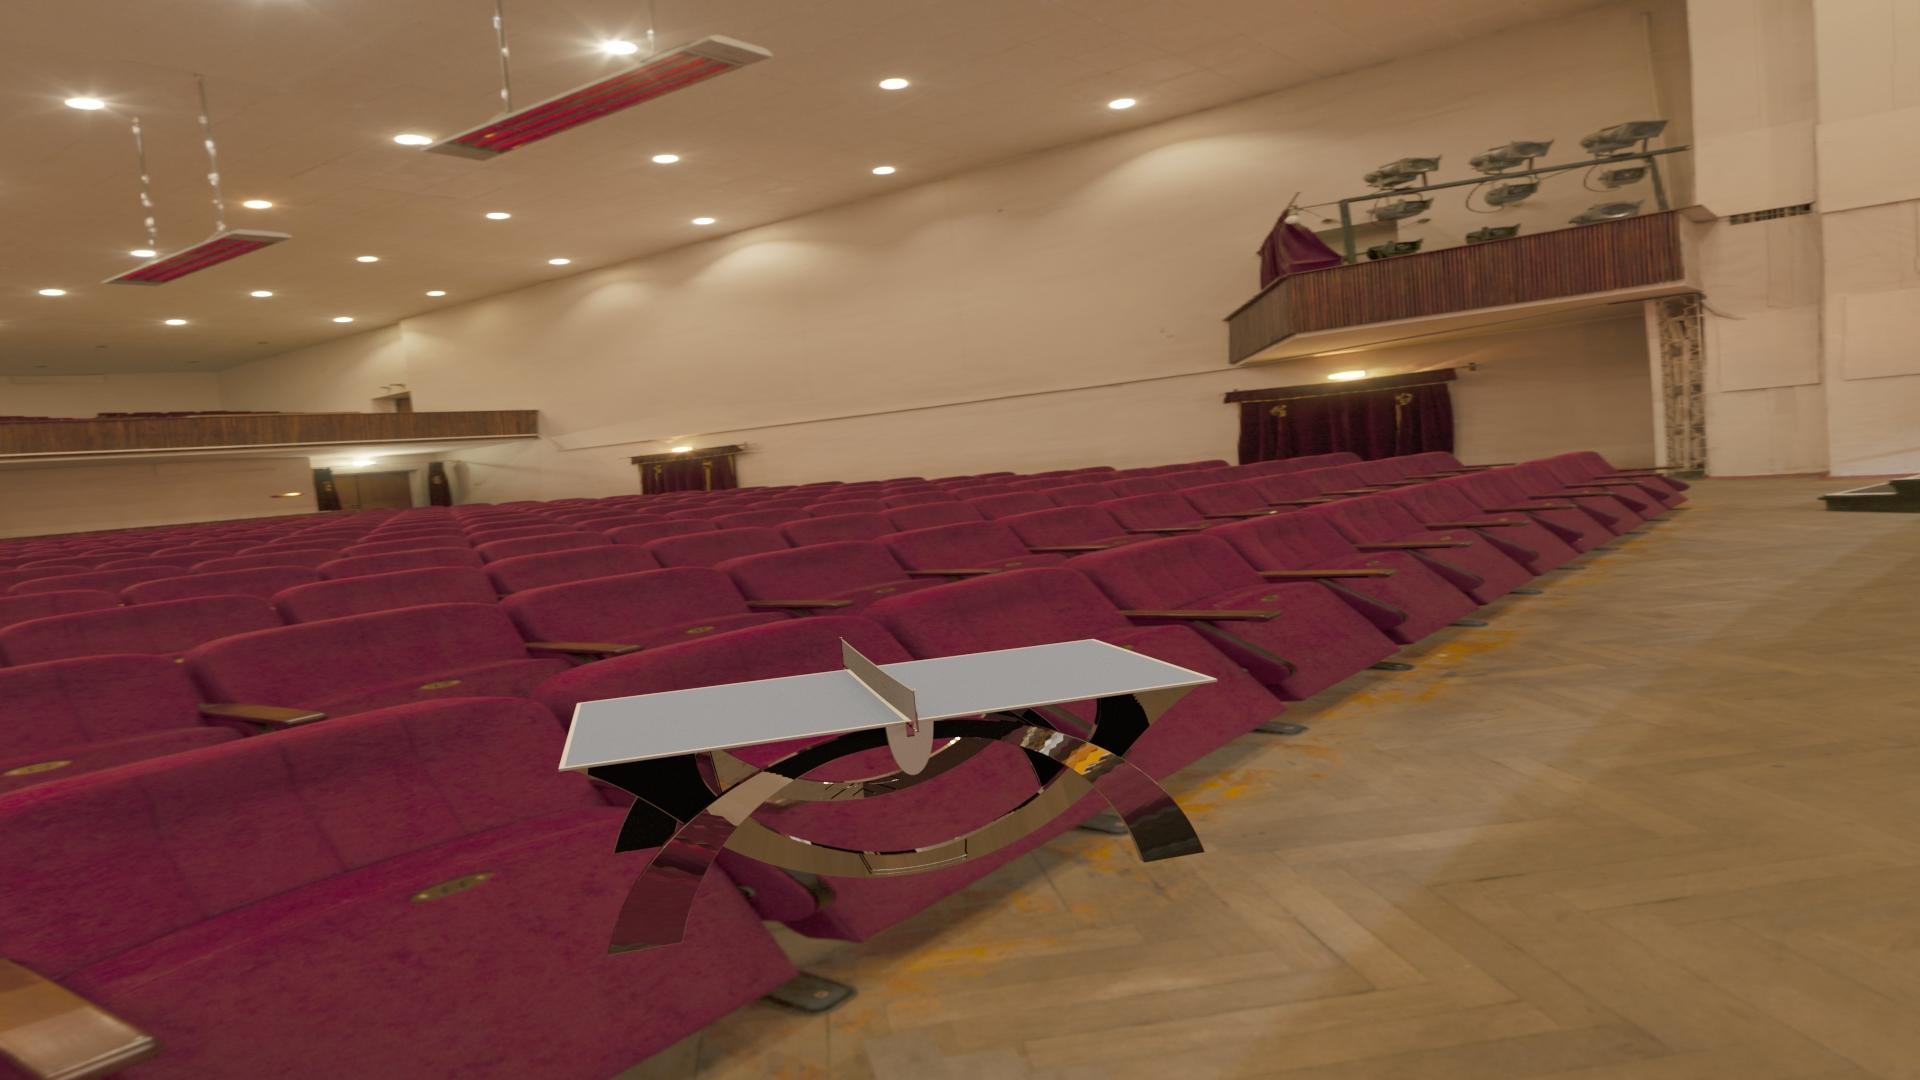table: (564, 640, 1211, 767)
